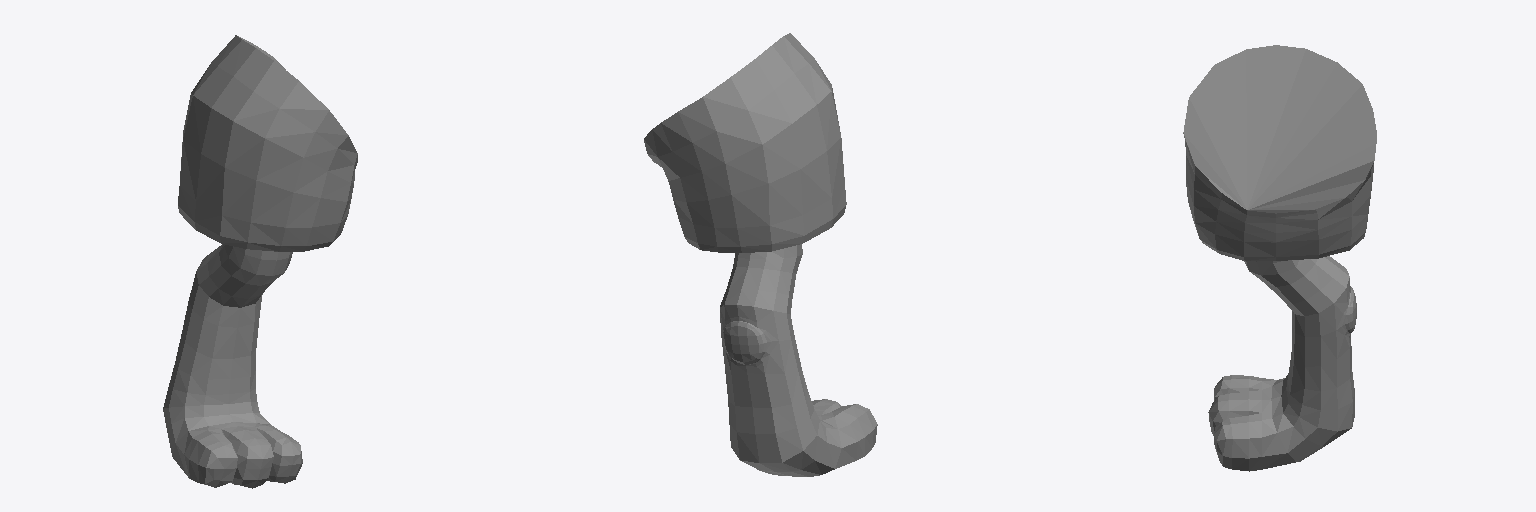
The model's file is LucarioPierDer.obj.
3 views of the same model, side by side, from view 1: azimuth 30°, elevation 25°; view 2: azimuth 150°, elevation 25°; view 3: azimuth 270°, elevation 25° (orthographic).
Visible parts, largest first — view 1: PiernaDer001; view 2: PiernaDer001; view 3: PiernaDer001.
Part boxes in pixels (x1,y1,x2,y2): PiernaDer001: (163,35,357,488); PiernaDer001: (644,33,877,476); PiernaDer001: (1183,45,1376,471).
Size of the model in its own units: 1.47 by 3.6 by 1.5.